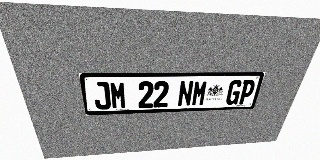2: (138, 81, 154, 108), (153, 81, 169, 108)
G: (225, 80, 243, 105)
J: (92, 82, 111, 110)
M: (109, 81, 127, 109), (191, 80, 208, 106)
N: (177, 80, 194, 107)
P: (237, 80, 257, 104)
